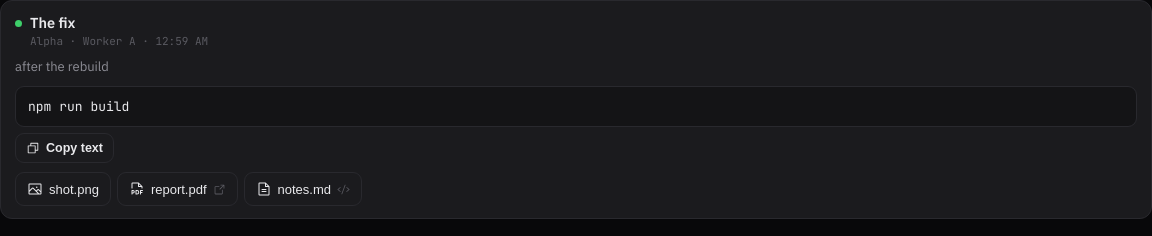
<PreviewItem> › shows the title, context, note, the text with Copy, and a chip per file
Check: the text "The fix" is shown, box [30,13,75,32]
Check: the text "Alpha · Worker A · 12:59 AM" is shown, box [30,34,208,48]
Step 1. Click the button "Copy text" → [64, 148], box [15,133,114,163]
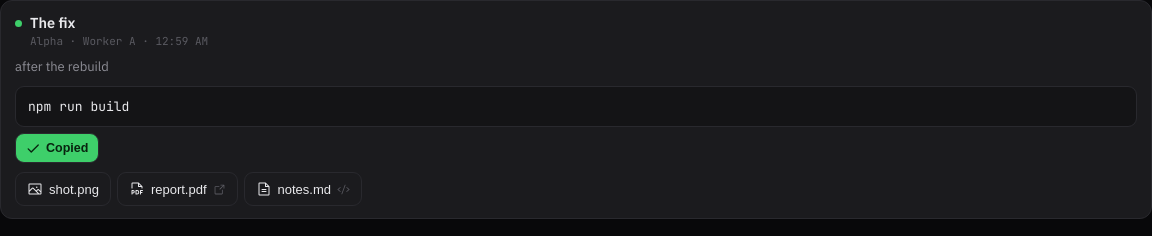
Check: the button "shot.png" is shown, box [15,172,111,206]
Check: the button "Copied" is shown, box [15,133,99,163]
